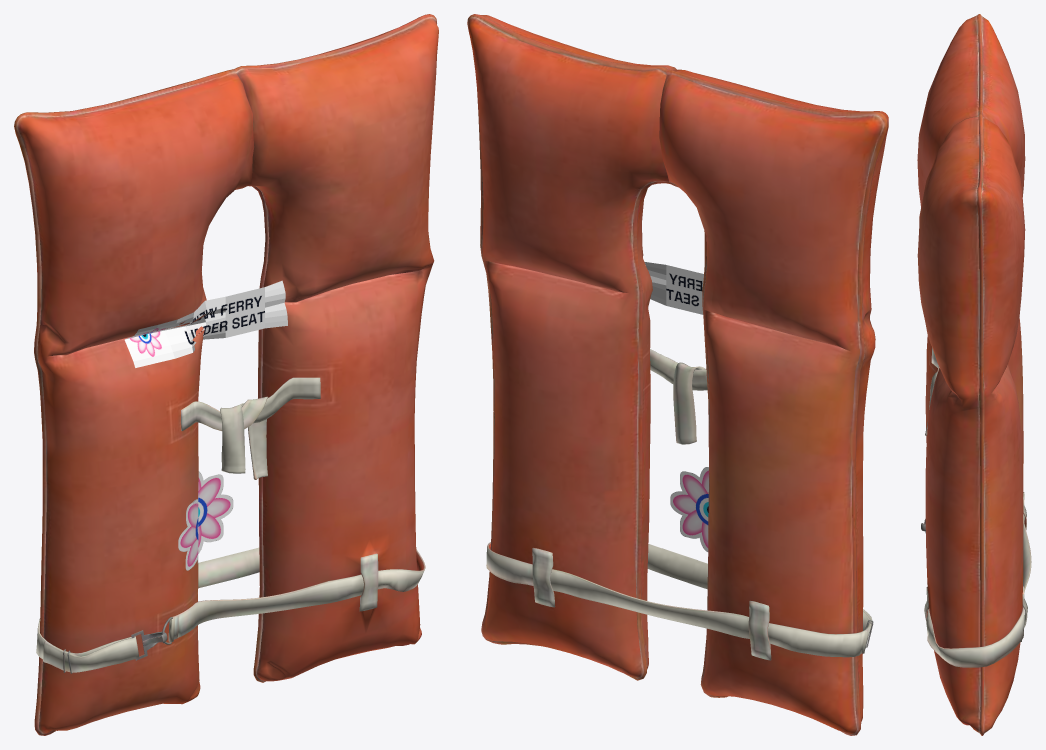
The model's file is nyb_ferry_lifejacket.glb.
3 views of the same model, side by side, from view 1: azimuth 30°, elevation 25°; view 2: azimuth 150°, elevation 25°; view 3: azimuth 270°, elevation 25° (orthographic). The views are drawn at different scales.
Visible parts, largest first — view 1: life_jacket, stk_lbl_d038fd31e5.png, stk_eyeflower_die.png; view 2: life_jacket, stk_eyeflower_die.png, stk_lbl_d038fd31e5.png; view 3: life_jacket.
Boxes of the visible parts, bbox=[...] form: life_jacket: bbox=[14, 14, 438, 735]; stk_lbl_d038fd31e5.png: bbox=[124, 280, 287, 367]; stk_eyeflower_die.png: bbox=[178, 471, 233, 570]; life_jacket: bbox=[467, 14, 888, 735]; stk_eyeflower_die.png: bbox=[670, 467, 708, 551]; stk_lbl_d038fd31e5.png: bbox=[644, 262, 703, 314]; life_jacket: bbox=[917, 14, 1031, 735].
Bounding box in the file's own units: 0.6956 × 0.9923 × 0.1842.
3 materials, 3 textured.
